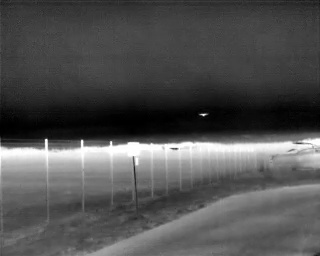AIRPLANE: (198, 110, 210, 119)
